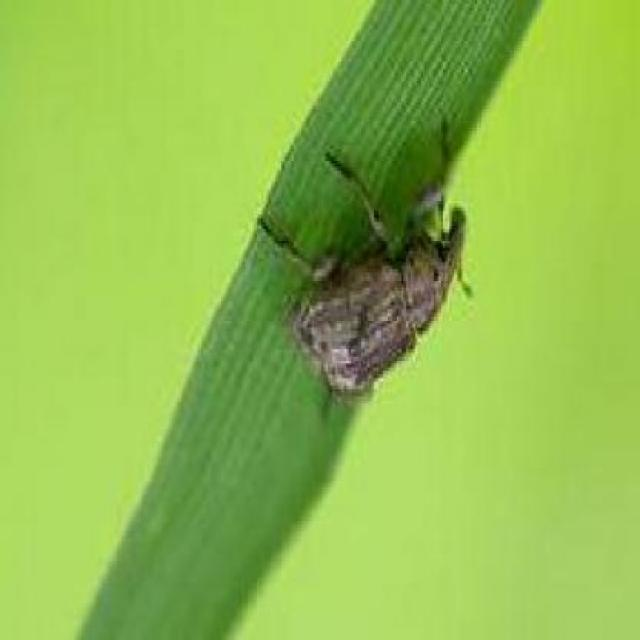rice-bug: (260, 137, 475, 394)
